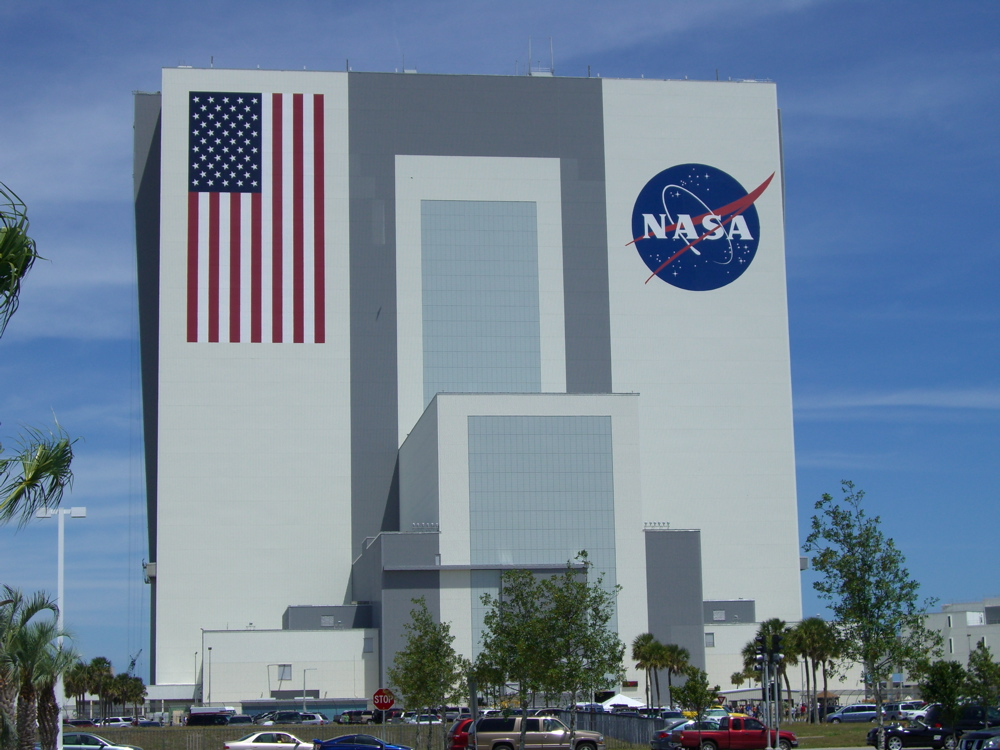NASA: (625, 156, 777, 296)
